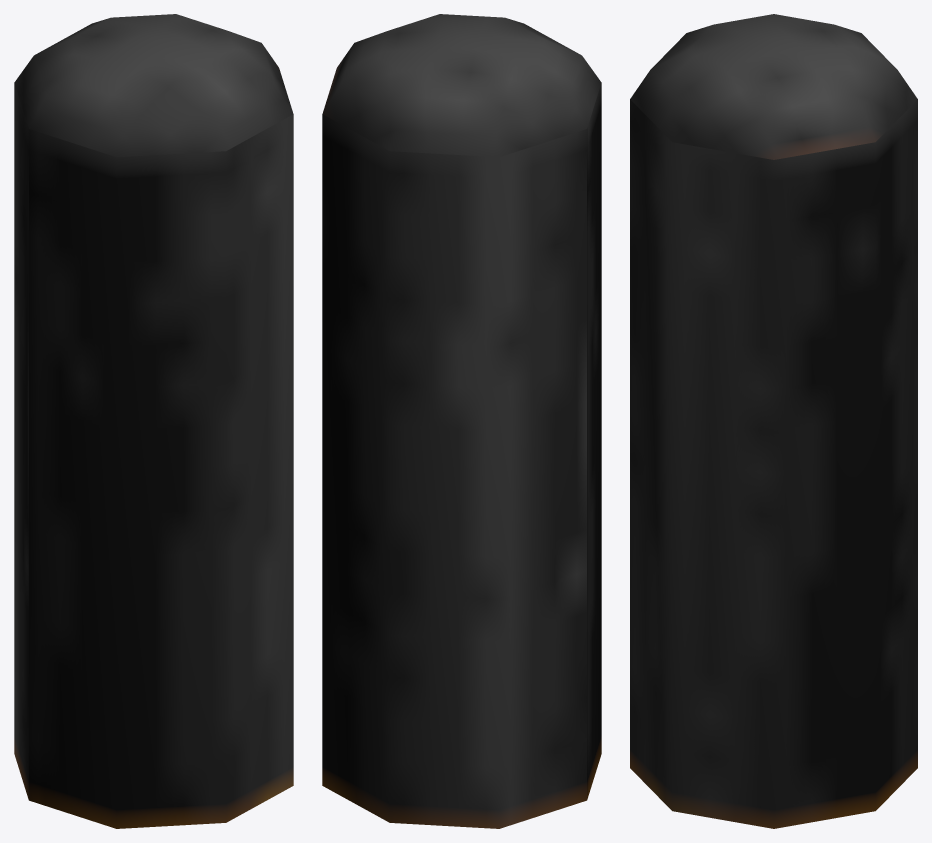
The model's file is fencepost_darkwood_0420x06.obj.
3 renders of one model, left to right at view 1: azimuth 30°, elevation 25°; view 2: azimuth 150°, elevation 25°; view 3: azimuth 270°, elevation 25°, orthographic.
Visible parts, largest first — view 1: fencepost_darkwood; view 2: fencepost_darkwood; view 3: fencepost_darkwood.
Boxes of the visible parts, x1=… form: fencepost_darkwood: x1=14, y1=14, x2=293, y2=828; fencepost_darkwood: x1=322, y1=14, x2=601, y2=828; fencepost_darkwood: x1=630, y1=14, x2=917, y2=828.
Bounding box in the file's own units: 0.7599 × 2.13 × 0.7599.
